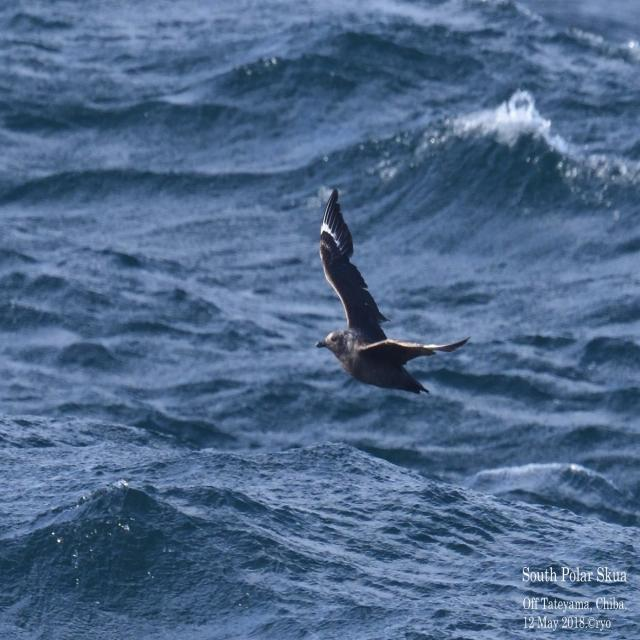bird: (305, 181, 464, 399)
